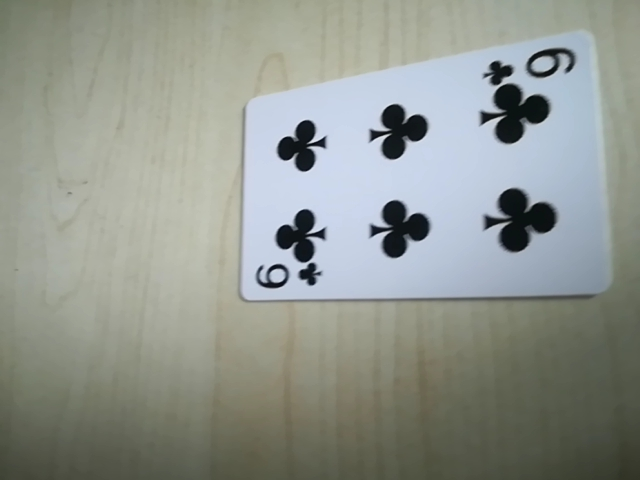mh 6: (484, 46, 585, 86), (249, 259, 325, 296)
